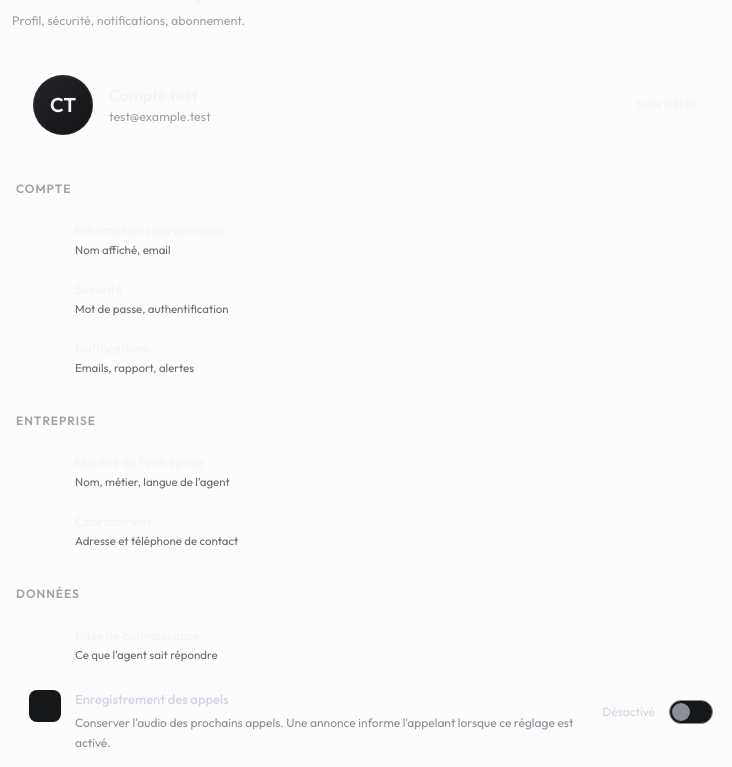
Test: ClientAccount boolean settings › should save only via the switch, block repeated clicks while pending, and read back the persisted value
Click the switch named "Enregistrement des appels": (691, 712) top-left (667, 690), bottom-right (715, 734)
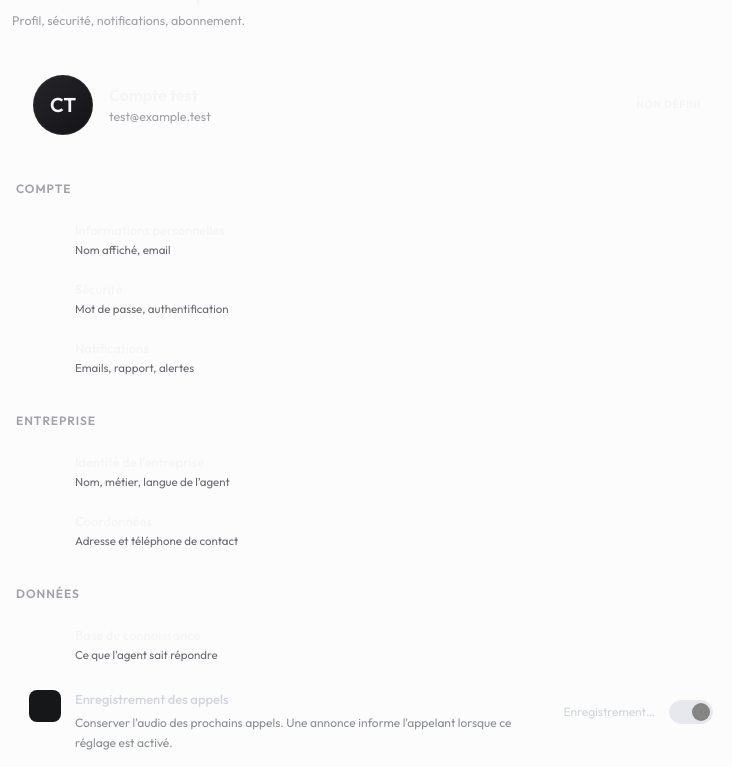
Expected: the switch named "Enregistrement des appels" is disabled
Expected: the text "Enregistrement…" is shown, top-left (563, 703), bottom-right (655, 721)
Click the switch named "Enregistrement des appels": (691, 712) top-left (667, 690), bottom-right (715, 734)
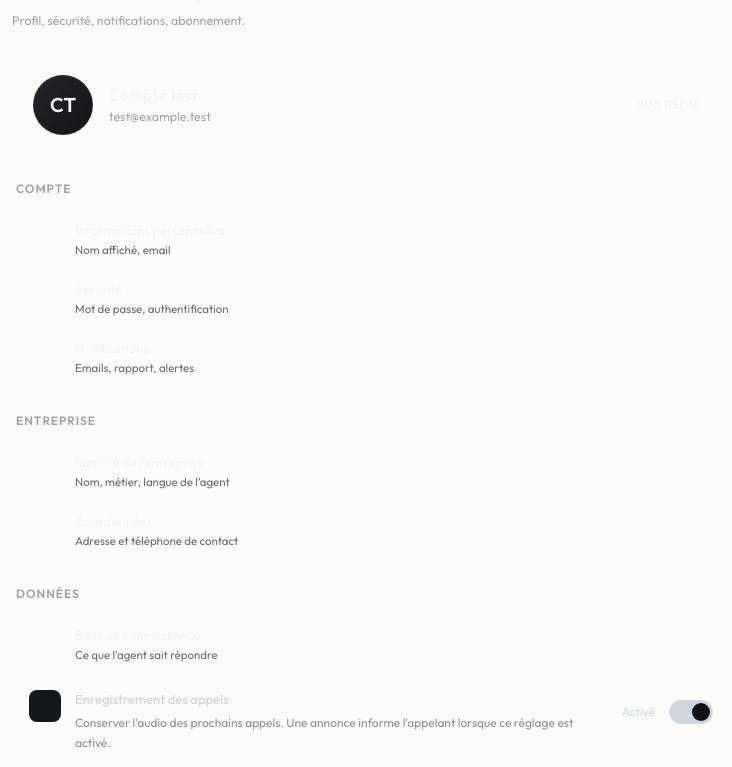
Expected: the switch named "Enregistrement des appels" is checked, top-left (667, 690), bottom-right (715, 734)
Expected: the switch named "Enregistrement des appels" is enabled, top-left (667, 690), bottom-right (715, 734)
Expected: the text "Activé" is shown, top-left (622, 703), bottom-right (655, 721)
